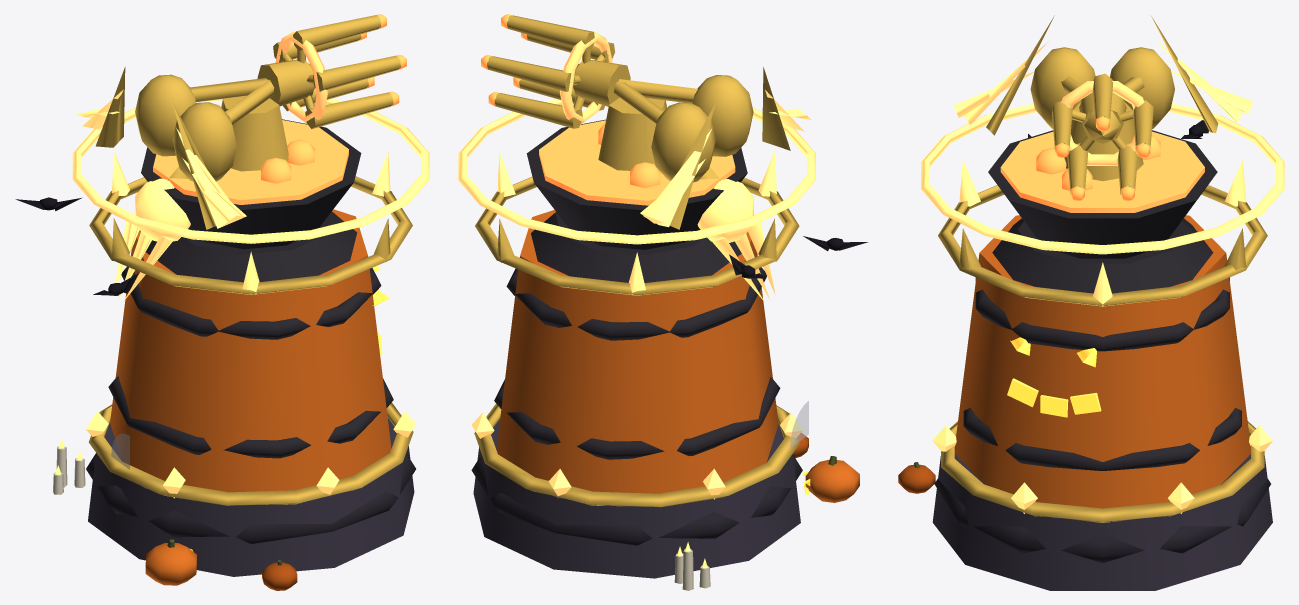
Rendered from tower_flame_firestorm_ultimate.glb.
The picture shows the model from 3 angles, left to right: view 1: azimuth 30°, elevation 25°; view 2: azimuth 150°, elevation 25°; view 3: azimuth 270°, elevation 25°; orthographic projection.
Parts seen in each view (by area): view 1: body, base, brazier_foot, brazier_bowl, coals, ult_halo, ult_ring, ult_phoenix, ult_crown_band, soot_ring, body_band_0.3, body_band_0.15 (+18 smaller); view 2: body, base, brazier_foot, coals, brazier_bowl, ult_halo, ult_ring, ult_phoenix, ult_crown_band, soot_ring, body_band_0.3, body_band_0.15 (+16 smaller); view 3: body, base, coals, brazier_foot, brazier_bowl, ult_halo, ult_crown_band, ult_ring, body_band_0.3, soot_ring, body_band_0.15, ult_phoenix (+16 smaller).
Boxes of the visible parts, bbox=[...] form: body: bbox=[110, 209, 391, 492]; base: bbox=[88, 418, 414, 576]; brazier_foot: bbox=[145, 211, 357, 282]; brazier_bowl: bbox=[141, 119, 361, 249]; coals: bbox=[153, 120, 348, 204]; ult_halo: bbox=[72, 98, 429, 243]; ult_ring: bbox=[88, 402, 413, 505]; ult_phoenix: bbox=[76, 66, 246, 301]; ult_crown_band: bbox=[89, 176, 412, 294]; soot_ring: bbox=[86, 453, 415, 544]; body_band_0.3: bbox=[121, 266, 381, 339]; body_band_0.15: bbox=[108, 376, 393, 458]; body: bbox=[496, 210, 778, 493]; base: bbox=[473, 419, 800, 578]; brazier_foot: bbox=[531, 212, 741, 282]; coals: bbox=[539, 120, 735, 205]; brazier_bowl: bbox=[526, 119, 747, 249]; ult_halo: bbox=[458, 99, 815, 244]; ult_ring: bbox=[474, 403, 799, 507]; ult_phoenix: bbox=[640, 67, 811, 301]; ult_crown_band: bbox=[475, 177, 799, 295]; soot_ring: bbox=[471, 455, 802, 545]; body_band_0.3: bbox=[506, 267, 766, 340]; body_band_0.15: bbox=[494, 377, 780, 459]; body: bbox=[954, 215, 1250, 508]; base: bbox=[932, 454, 1272, 590]; coals: bbox=[1000, 131, 1204, 212]; brazier_foot: bbox=[992, 218, 1213, 293]; brazier_bowl: bbox=[988, 130, 1217, 258]; ult_halo: bbox=[921, 103, 1284, 254]; ult_crown_band: bbox=[938, 185, 1267, 306]; ult_ring: bbox=[941, 421, 1264, 522]; body_band_0.3: bbox=[975, 277, 1229, 351]; soot_ring: bbox=[934, 479, 1270, 562]; body_band_0.15: bbox=[963, 408, 1241, 470]; ult_phoenix: bbox=[953, 15, 1253, 135].
Size of the model in its own units: 0.487 by 0.6127 by 0.4541.
